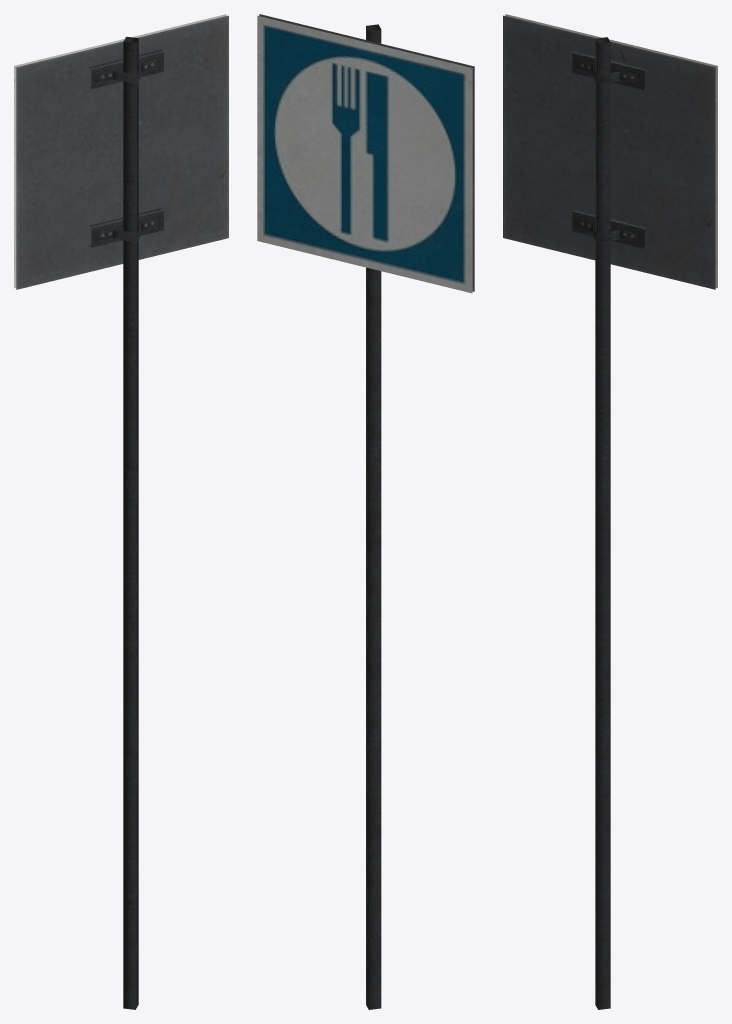
Rendered from Restaurant.glb.
3 renders of one model, left to right at view 1: azimuth 30°, elevation 25°; view 2: azimuth 150°, elevation 25°; view 3: azimuth 330°, elevation 25°, orthographic.
Parts seen in each view (by area): view 1: Restaurant__LOD1; view 2: Restaurant__LOD1; view 3: Restaurant__LOD1.
Boxes of the visible parts, <box> form: Restaurant__LOD1: <box>14,14,228,1009</box>; Restaurant__LOD1: <box>257,14,474,1009</box>; Restaurant__LOD1: <box>503,14,717,1009</box>.
Bounding box in the file's own units: 0.6891 × 2.99 × 0.0909.
1 material, 1 textured.
